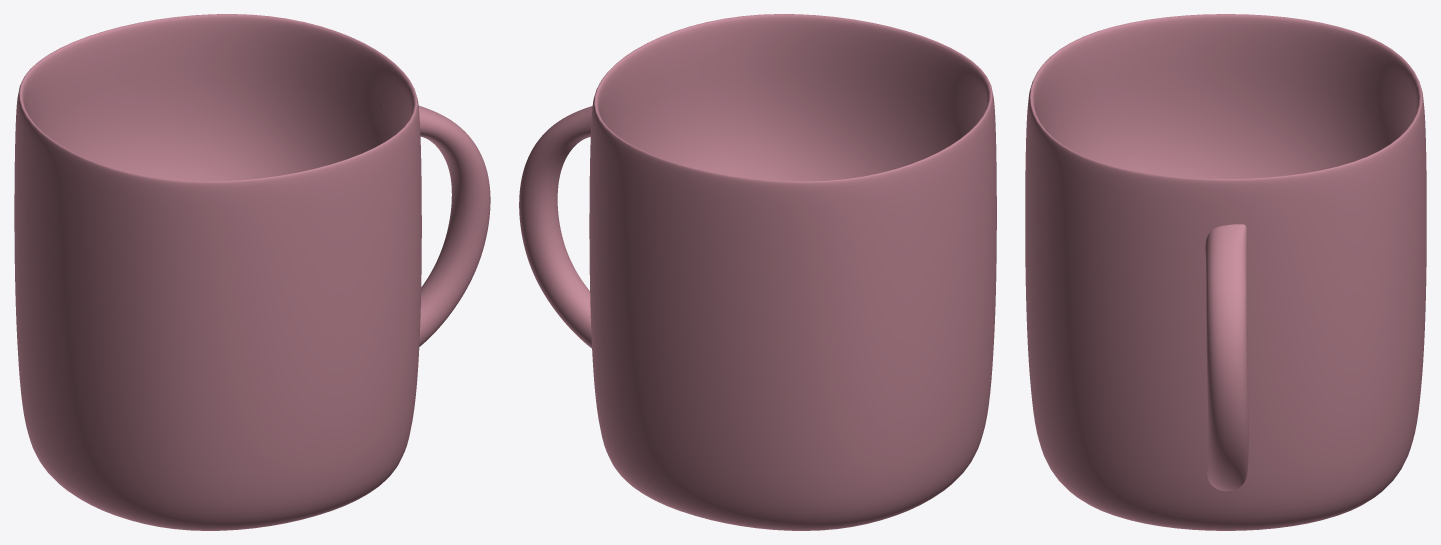
Rendered from mug.fbx.
3 renders of one model, left to right at view 1: azimuth 30°, elevation 25°; view 2: azimuth 150°, elevation 25°; view 3: azimuth 270°, elevation 25°, orthographic.
Visible parts, largest first — view 1: Cube; view 2: Cube; view 3: Cube.
Part boxes in pixels (x1,y1,x2,y2): Cube: (14,14,490,530); Cube: (519,14,996,530); Cube: (1025,14,1426,530).
Size of the model in its own units: 38.66 by 30.63 by 30.18.
